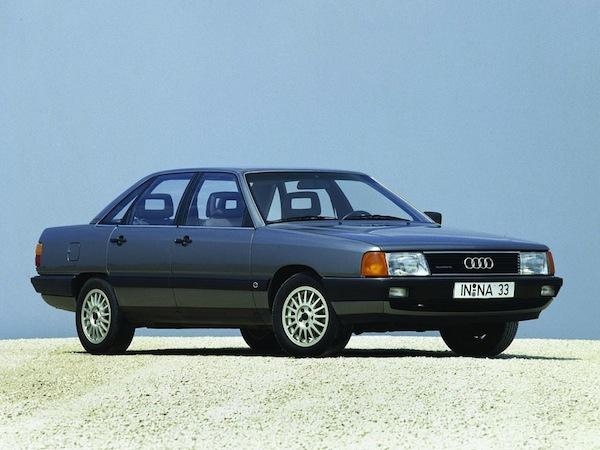Audi: (455, 251, 502, 276)
